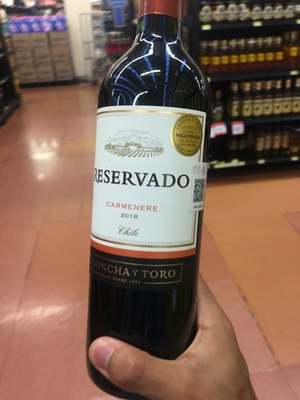reservado carmenere: (86, 33, 220, 390)
